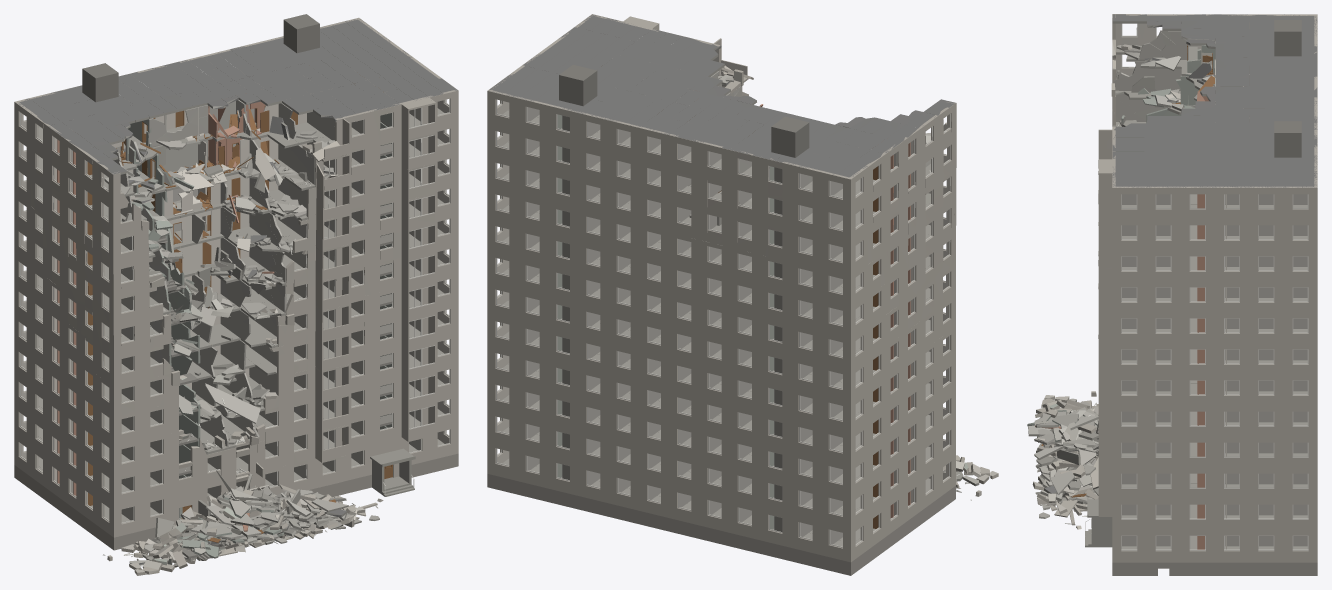
Rendered from b3_ruin_lod0.glb.
3 views of the same model, side by side, from view 1: azimuth 30°, elevation 25°; view 2: azimuth 150°, elevation 25°; view 3: azimuth 270°, elevation 25° (orthographic). The views are drawn at different scales.
Visible parts, largest first — view 1: b3_lod0__facade_panel, b3_lod0__wall_room, b3_lod0__roof, b3_lod0__slab_top, b3_lod0__window_frame, b3_lod0__stairwell_wall, b3_lod0__slab_edge, b3_lod0__monolith, b3_lod0__slab_under, b3_lod0__plinth, b3_lod0__concrete, b3_lod0__door_wood; view 2: b3_lod0__facade_panel, b3_lod0__roof, b3_lod0__wall_room, b3_lod0__window_frame, b3_lod0__slab_top, b3_lod0__plinth, b3_lod0__concrete, b3_lod0__stairwell_wall; view 3: b3_lod0__facade_panel, b3_lod0__roof, b3_lod0__wall_room, b3_lod0__slab_top, b3_lod0__window_frame, b3_lod0__plinth, b3_lod0__concrete, b3_lod0__slab_edge, b3_lod0__slab_under, b3_lod0__stairwell_wall, b3_lod0__monolith.
Boxes of the visible parts, x1,y1,x2,y2 form: b3_lod0__facade_panel: [14, 17, 458, 575]; b3_lod0__wall_room: [21, 68, 449, 574]; b3_lod0__roof: [18, 19, 457, 564]; b3_lod0__slab_top: [38, 108, 444, 560]; b3_lod0__window_frame: [20, 98, 450, 574]; b3_lod0__stairwell_wall: [122, 113, 391, 565]; b3_lod0__slab_edge: [104, 60, 413, 563]; b3_lod0__monolith: [137, 143, 415, 566]; b3_lod0__slab_under: [104, 98, 345, 565]; b3_lod0__plinth: [14, 453, 458, 550]; b3_lod0__concrete: [82, 14, 319, 102]; b3_lod0__door_wood: [87, 106, 392, 518]; b3_lod0__facade_panel: [487, 14, 998, 562]; b3_lod0__roof: [489, 14, 978, 485]; b3_lod0__wall_room: [497, 49, 998, 544]; b3_lod0__window_frame: [496, 73, 990, 547]; b3_lod0__slab_top: [502, 109, 963, 546]; b3_lod0__plinth: [487, 474, 955, 575]; b3_lod0__concrete: [559, 65, 809, 531]; b3_lod0__stairwell_wall: [557, 114, 968, 529]; b3_lod0__facade_panel: [1032, 14, 1317, 562]; b3_lod0__roof: [1044, 14, 1317, 493]; b3_lod0__wall_room: [1033, 15, 1307, 549]; b3_lod0__slab_top: [1035, 46, 1307, 549]; b3_lod0__window_frame: [1040, 24, 1308, 550]; b3_lod0__plinth: [1112, 562, 1317, 575]; b3_lod0__concrete: [1274, 20, 1301, 157]; b3_lod0__slab_edge: [1028, 21, 1246, 504]; b3_lod0__slab_under: [1028, 24, 1214, 501]; b3_lod0__stairwell_wall: [1027, 45, 1215, 461]; b3_lod0__monolith: [1041, 127, 1123, 547].
Bounding box in the file's own units: 37.49 × 39.94 × 25.46.
